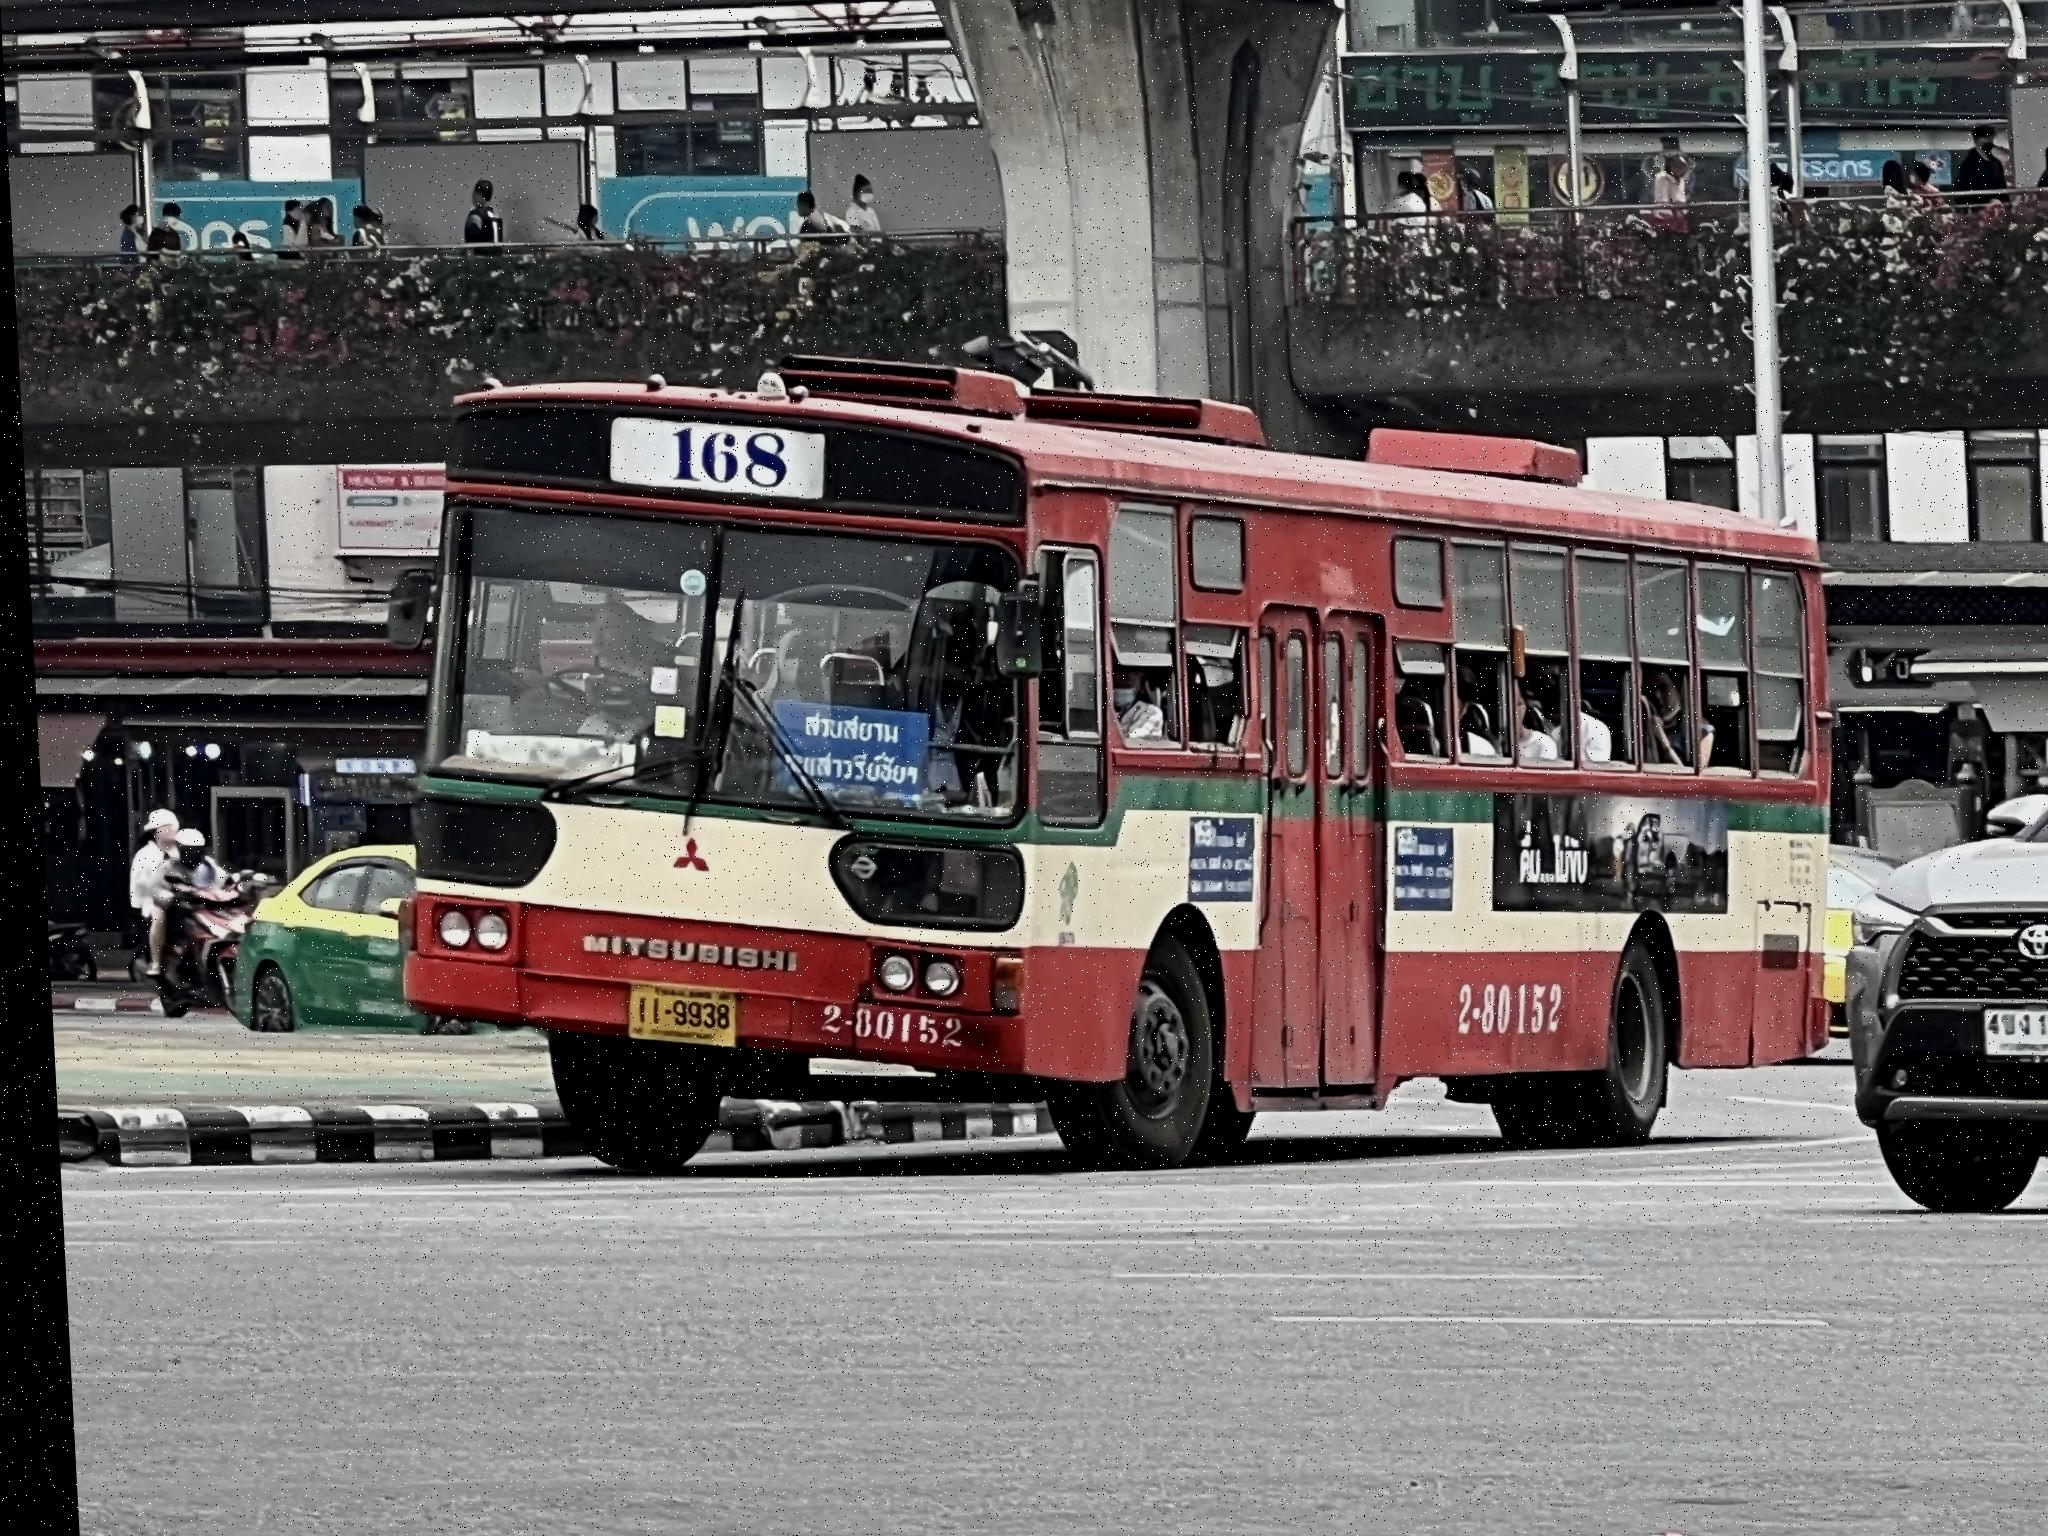BMTA-bus: (379, 363, 1830, 1178)
Bus Line Number: (627, 423, 813, 499)
Bus Side Number: (1427, 962, 1571, 1046), (787, 1004, 966, 1057)
Destination Sign: (766, 702, 921, 800)
